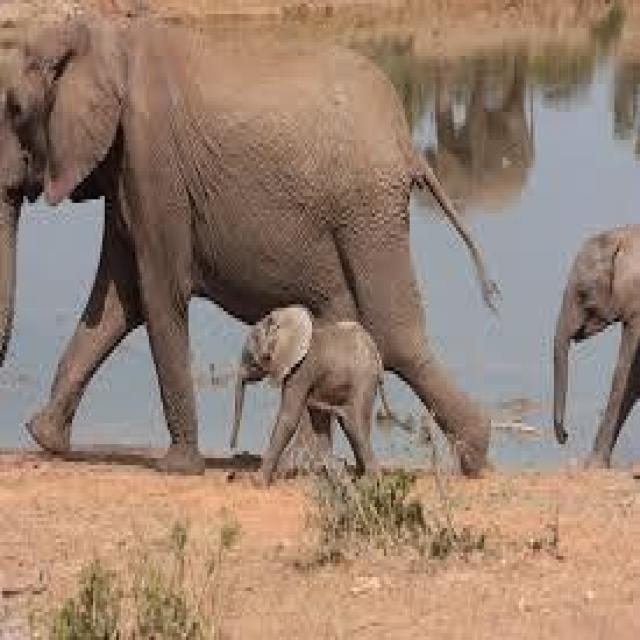Elephant: (0, 11, 491, 476), (228, 304, 386, 472), (552, 220, 638, 462)
